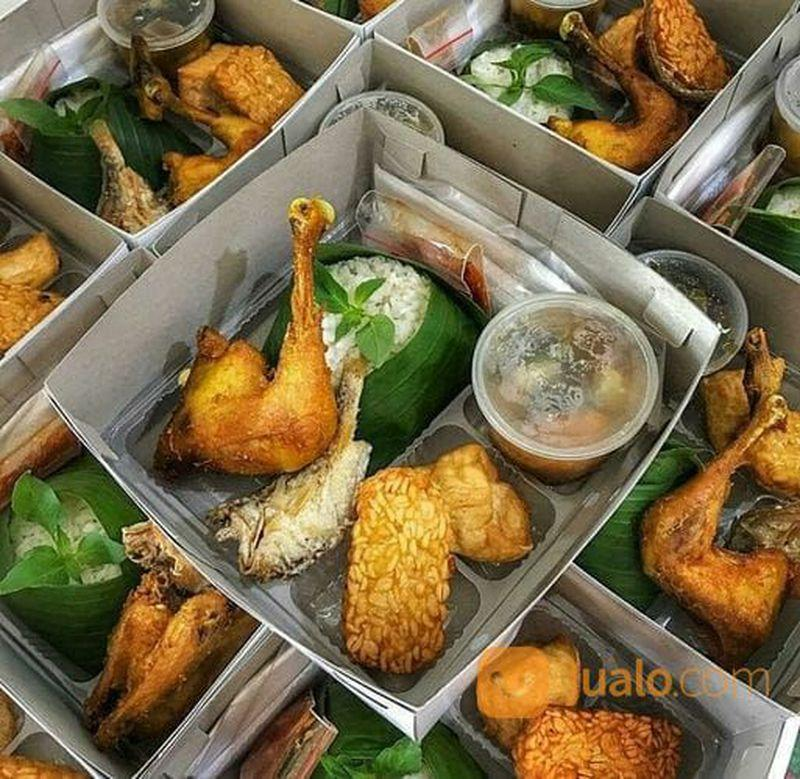daging: (657, 537, 762, 616), (126, 597, 189, 711), (207, 374, 307, 438), (257, 487, 334, 548), (584, 127, 662, 149)
kacang_legume: (364, 480, 433, 634), (532, 718, 665, 778), (495, 651, 564, 711), (215, 57, 272, 116)
makanan_berpati: (384, 282, 415, 317)
